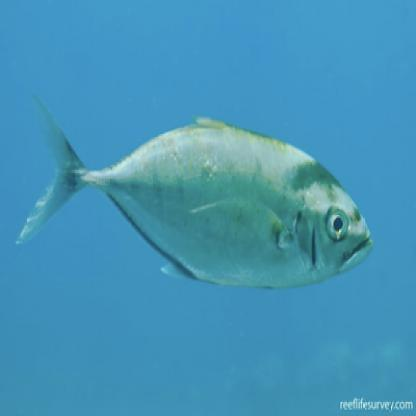jack: (16, 82, 378, 294)
